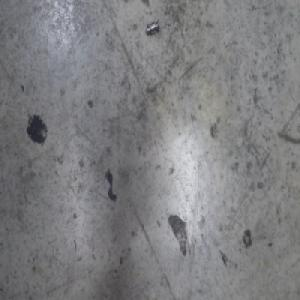Bolt: (145, 18, 160, 36)
